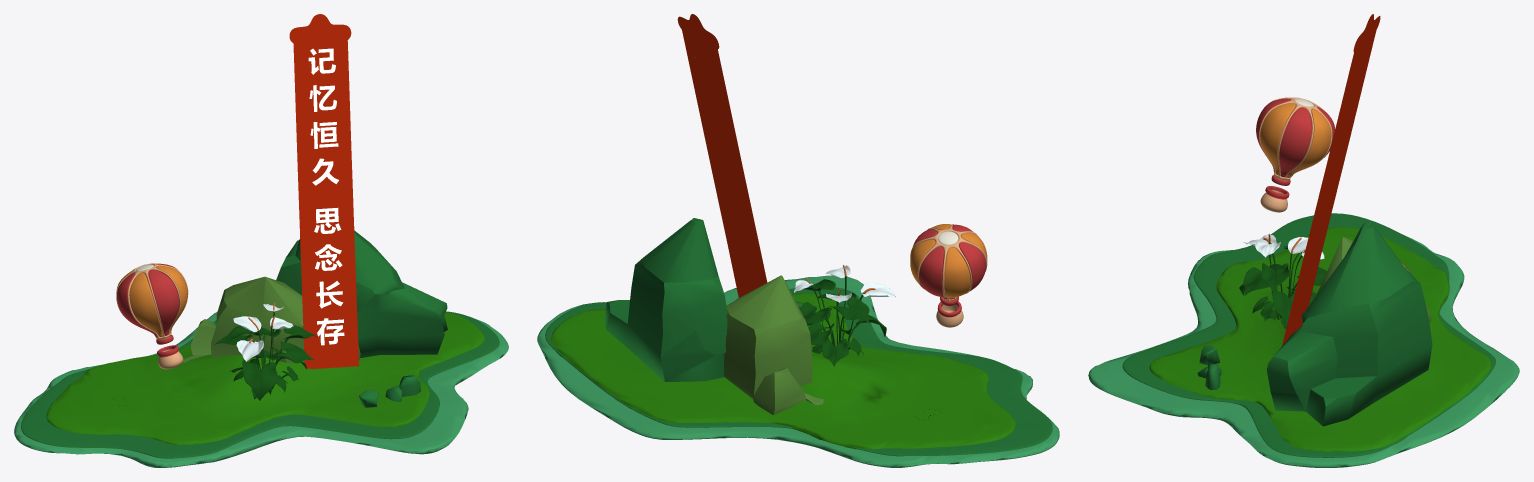
Rendered from island.glb.
3 renders of one model, left to right at view 1: azimuth 30°, elevation 25°; view 2: azimuth 150°, elevation 25°; view 3: azimuth 270°, elevation 25°, orthographic. The views are drawn at different scales.
Bounding box in the file's own units: 22.94 × 16.03 × 16.64.
